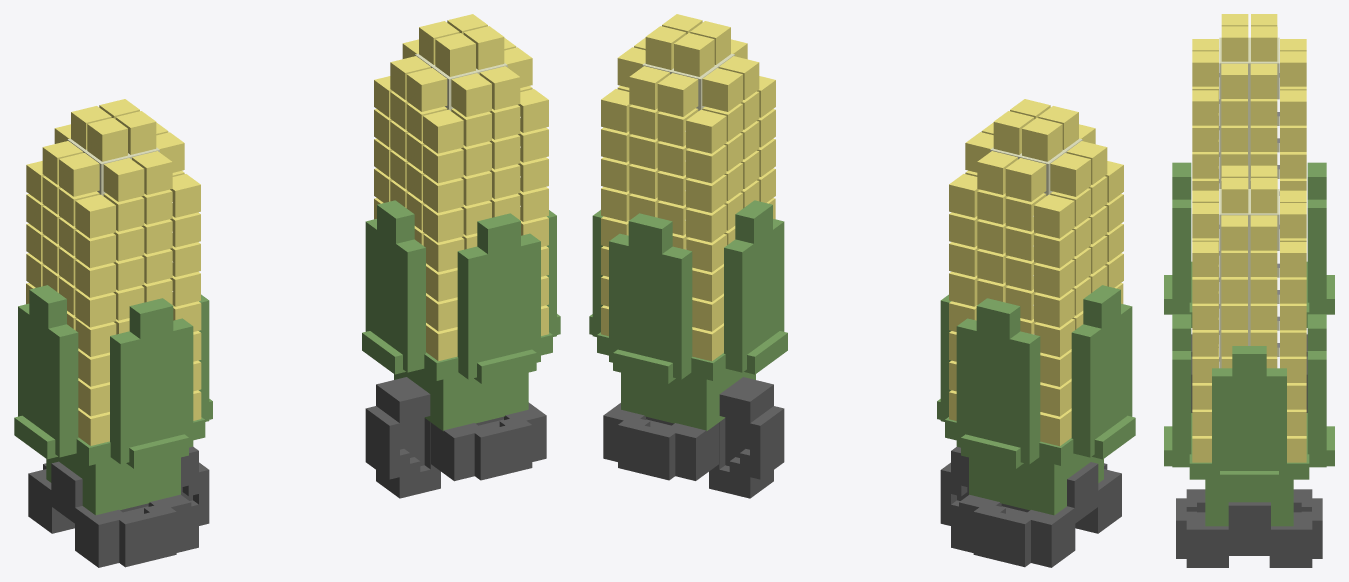
File: corn_funnel_v1.1.fbx
3 renders of one model, left to right at view 1: azimuth 30°, elevation 25°; view 2: azimuth 150°, elevation 25°; view 3: azimuth 270°, elevation 25°, orthographic. The views are drawn at different scales.
Visible parts, largest first — view 1: funnel1 (×40), leaf_support_R, leaf_support_L, basics_L, basics, funnel_R, funnel_L57; view 2: funnel1 (×40), leaf_support_R, leaf_support_L, basics_L, basics, funnel_L57, funnel_R; view 3: funnel1 (×42), leaf_support_L, basics_L, funnel_L57, leaf_support_R, funnel_R, shin_L, shin_R, basics.
Part boxes in pixels (left/top/right/bottom): funnel1 (×40): left=42, top=47, right=548, bottom=327; leaf_support_R: left=14, top=285, right=212, bottom=515; leaf_support_L: left=362, top=200, right=560, bottom=431; basics_L: left=365, top=377, right=546, bottom=498; basics: left=28, top=446, right=209, bottom=567; funnel_R: left=26, top=99, right=201, bottom=445; funnel_L57: left=374, top=14, right=548, bottom=360; funnel1 (×40): left=601, top=47, right=1107, bottom=327; leaf_support_R: left=937, top=285, right=1135, bottom=515; leaf_support_L: left=589, top=200, right=787, bottom=431; basics_L: left=603, top=377, right=784, bottom=498; basics: left=940, top=447, right=1121, bottom=567; funnel_L57: left=601, top=14, right=775, bottom=361; funnel_R: left=949, top=99, right=1123, bottom=446; funnel1 (×42): left=1192, top=39, right=1306, bottom=356; leaf_support_L: left=1164, top=314, right=1334, bottom=526; basics_L: left=1176, top=489, right=1322, bottom=567; funnel_L57: left=1192, top=165, right=1306, bottom=462; leaf_support_R: left=1164, top=162, right=1334, bottom=327; funnel_R: left=1219, top=14, right=1279, bottom=199; shin_L: left=1219, top=189, right=1279, bottom=368; shin_R: left=1219, top=37, right=1279, bottom=188; basics: left=1191, top=334, right=1307, bottom=412.
Bounding box in the file's own units: 1993 × 1632 × 644.
